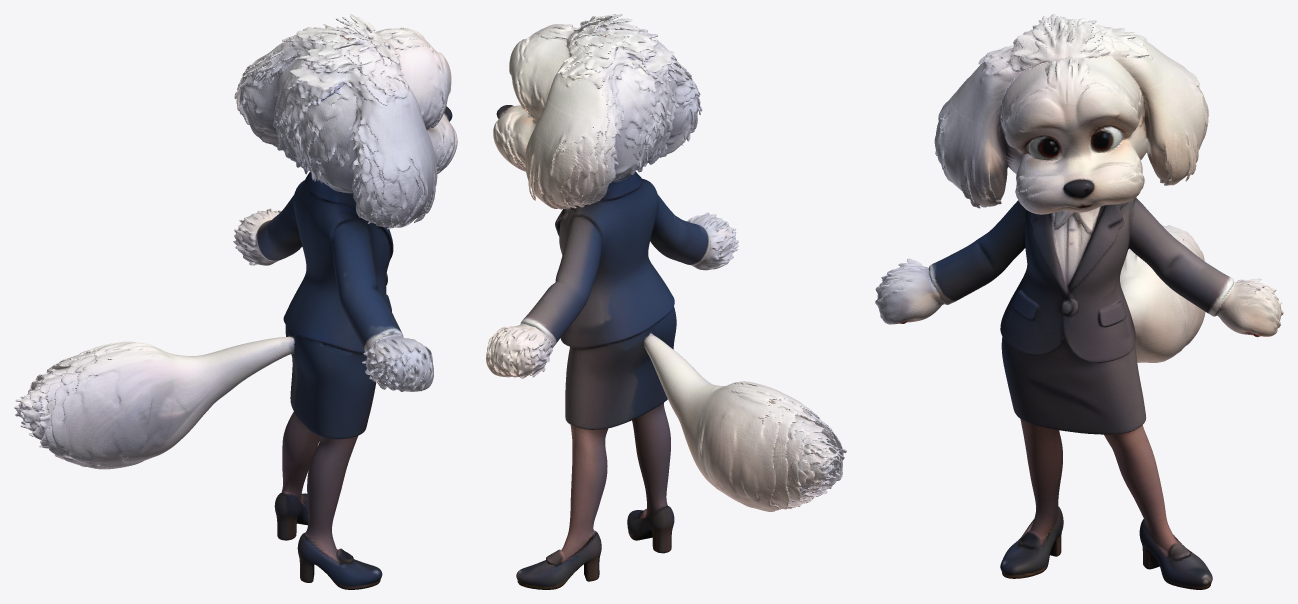
File: dog-new.glb
The picture shows the model from 3 angles, left to right: view 1: azimuth 30°, elevation 25°; view 2: azimuth 150°, elevation 25°; view 3: azimuth 270°, elevation 25°; orthographic projection. The views are drawn at different scales.
Visible parts, largest first — view 1: tripo_node_385c5c9c-f35b-4b08-a122-6809a8293ac2; view 2: tripo_node_385c5c9c-f35b-4b08-a122-6809a8293ac2; view 3: tripo_node_385c5c9c-f35b-4b08-a122-6809a8293ac2.
Part boxes in pixels (x1=…): tripo_node_385c5c9c-f35b-4b08-a122-6809a8293ac2: x1=14, y1=14, x2=457, y2=589; tripo_node_385c5c9c-f35b-4b08-a122-6809a8293ac2: x1=486, y1=14, x2=846, y2=589; tripo_node_385c5c9c-f35b-4b08-a122-6809a8293ac2: x1=875, y1=14, x2=1283, y2=589.
Size of the model in its own units: 0.7551 by 1 by 0.6567.
Materials: 1 (1 with a texture image).
